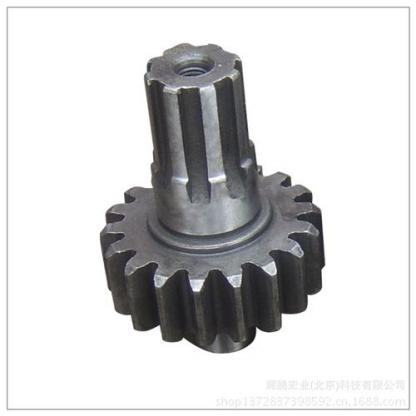FOD: (96, 41, 329, 358)
